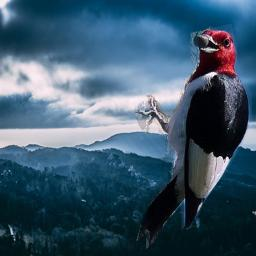Woodpecker: (129, 15, 252, 256)
